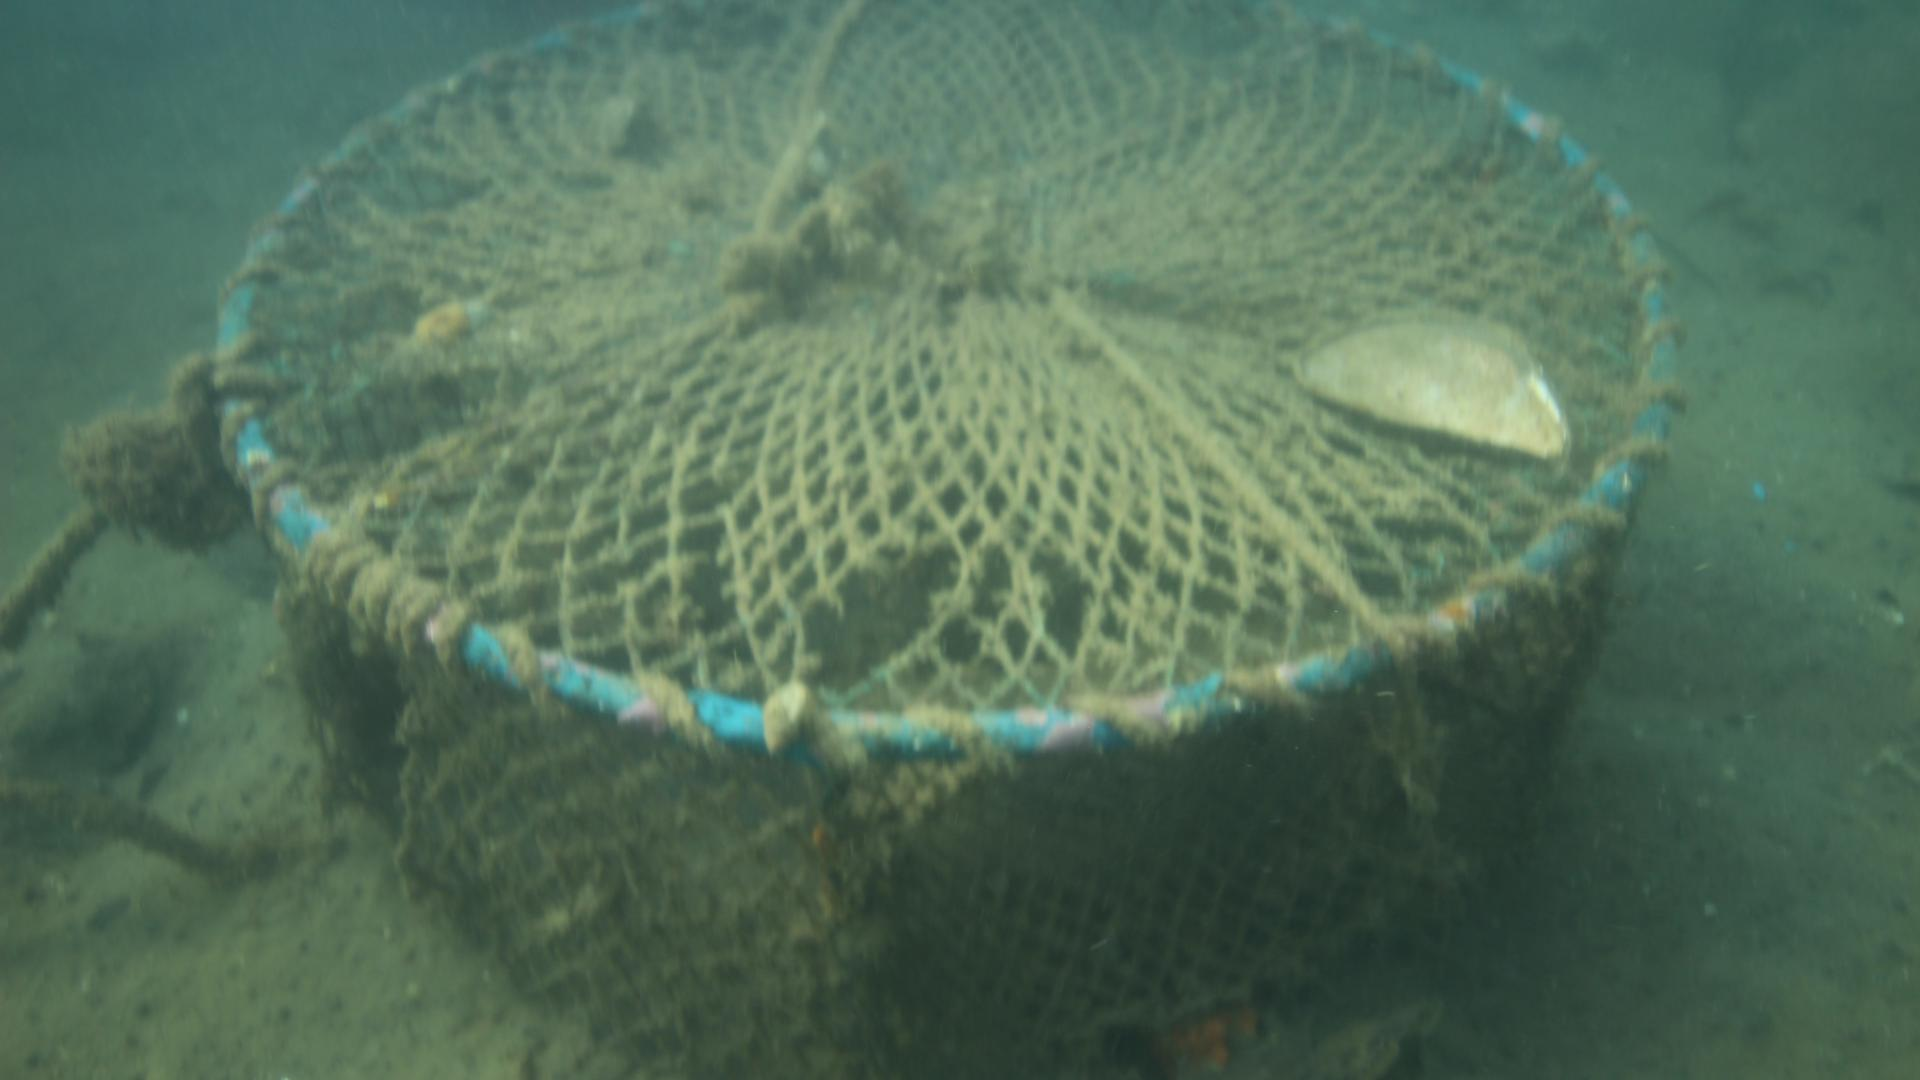circular fish trap: (212, 0, 1691, 1080)
